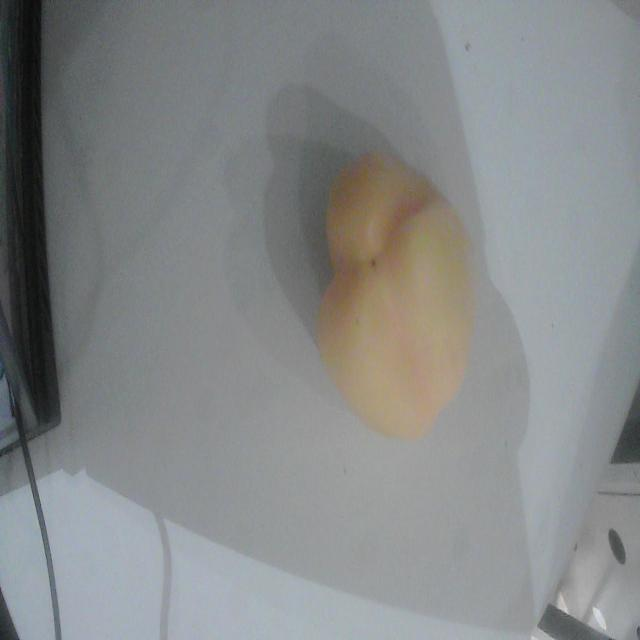Bell Pepper: (318, 155, 476, 436)
